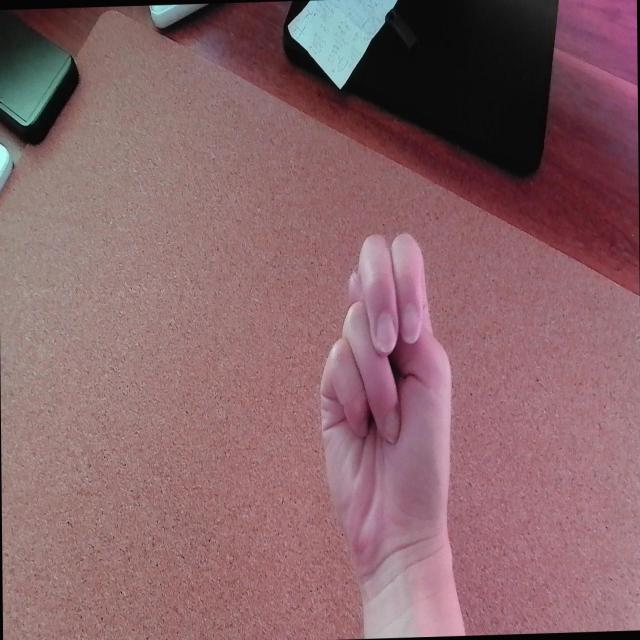N: (310, 226, 460, 574)
